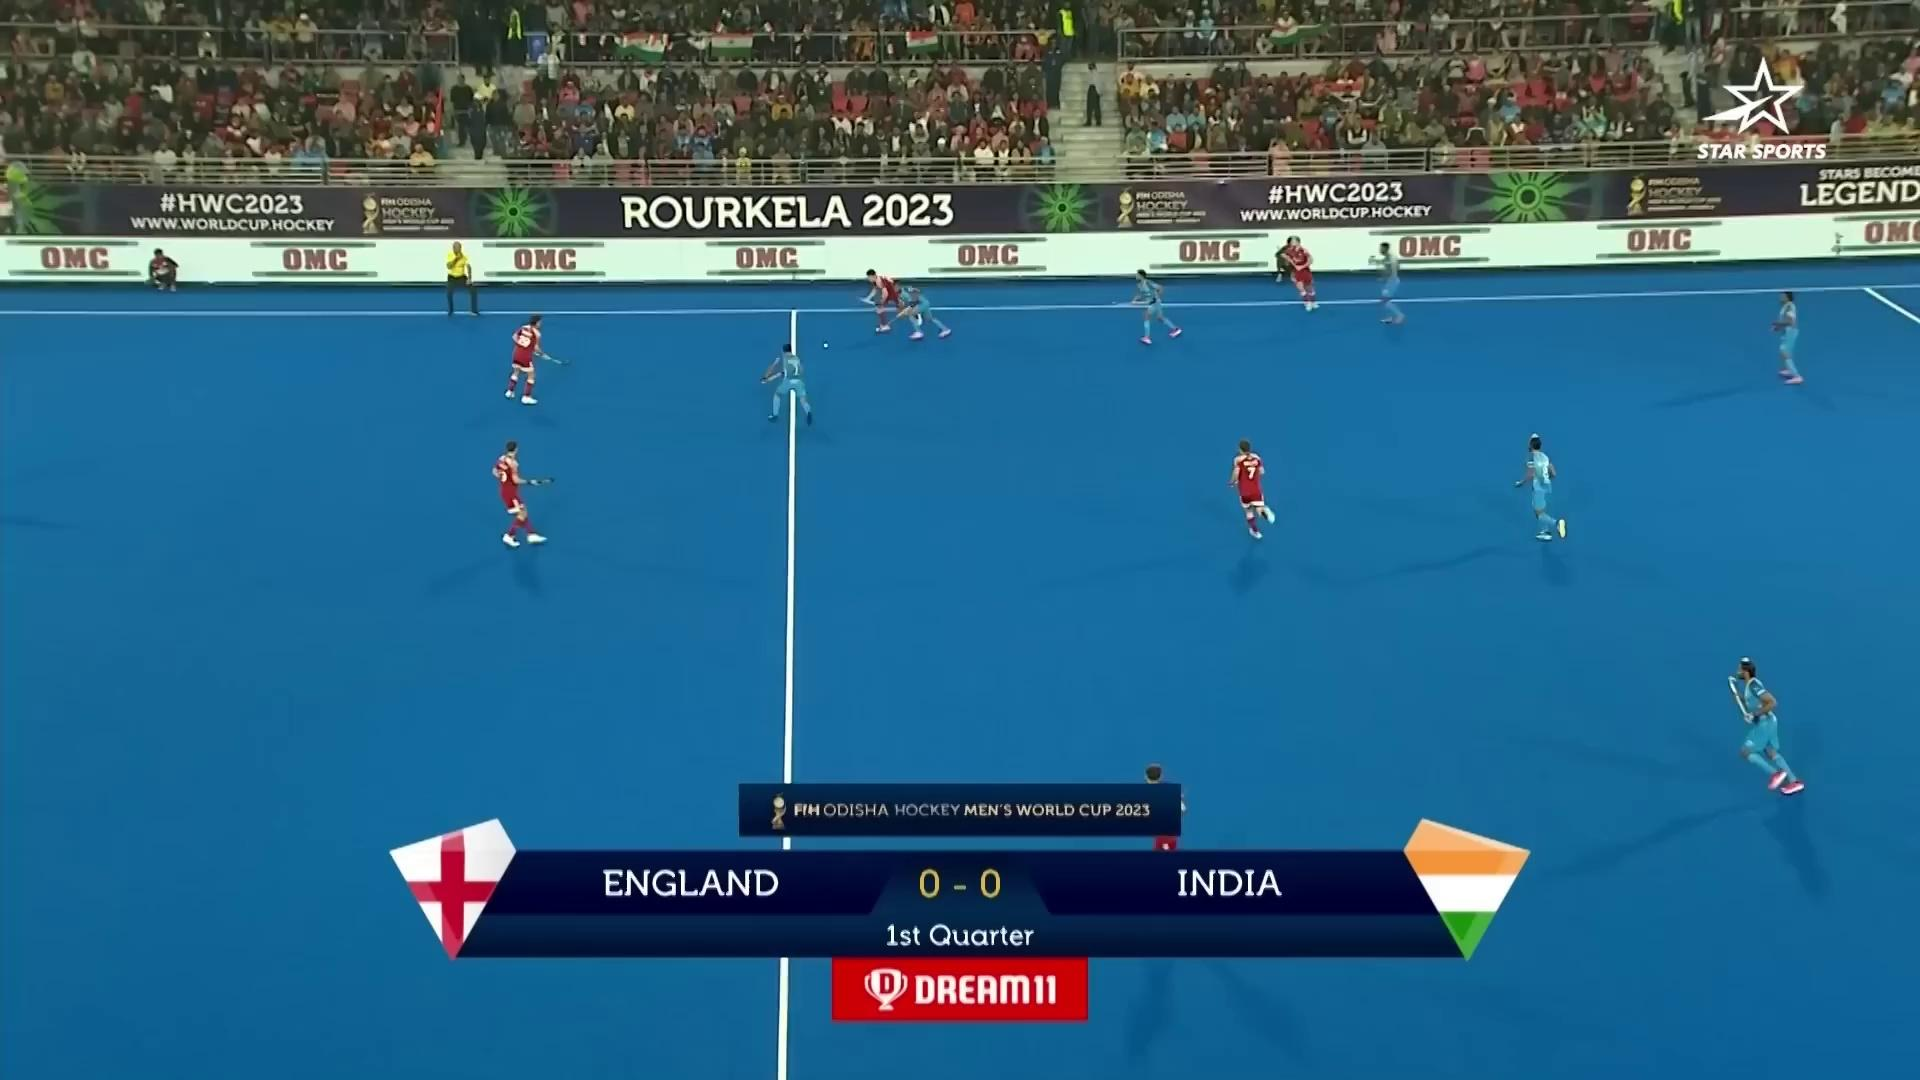ball: (819, 338, 835, 355)
